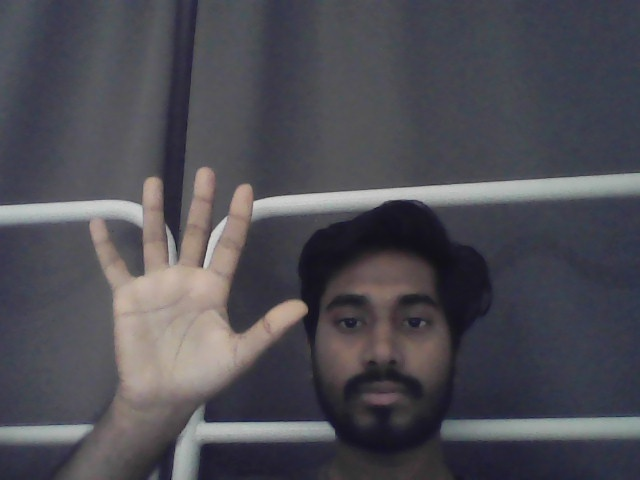hello: (84, 164, 311, 409)
